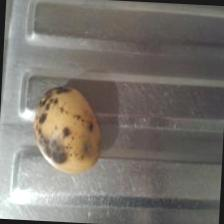Mango Overripe: (25, 79, 108, 177)
